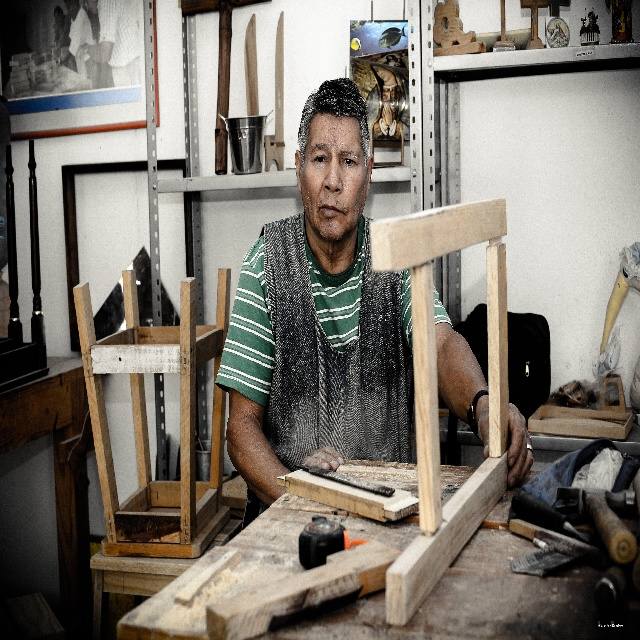Sin_guantes: (477, 402, 534, 490), (301, 446, 345, 471)
